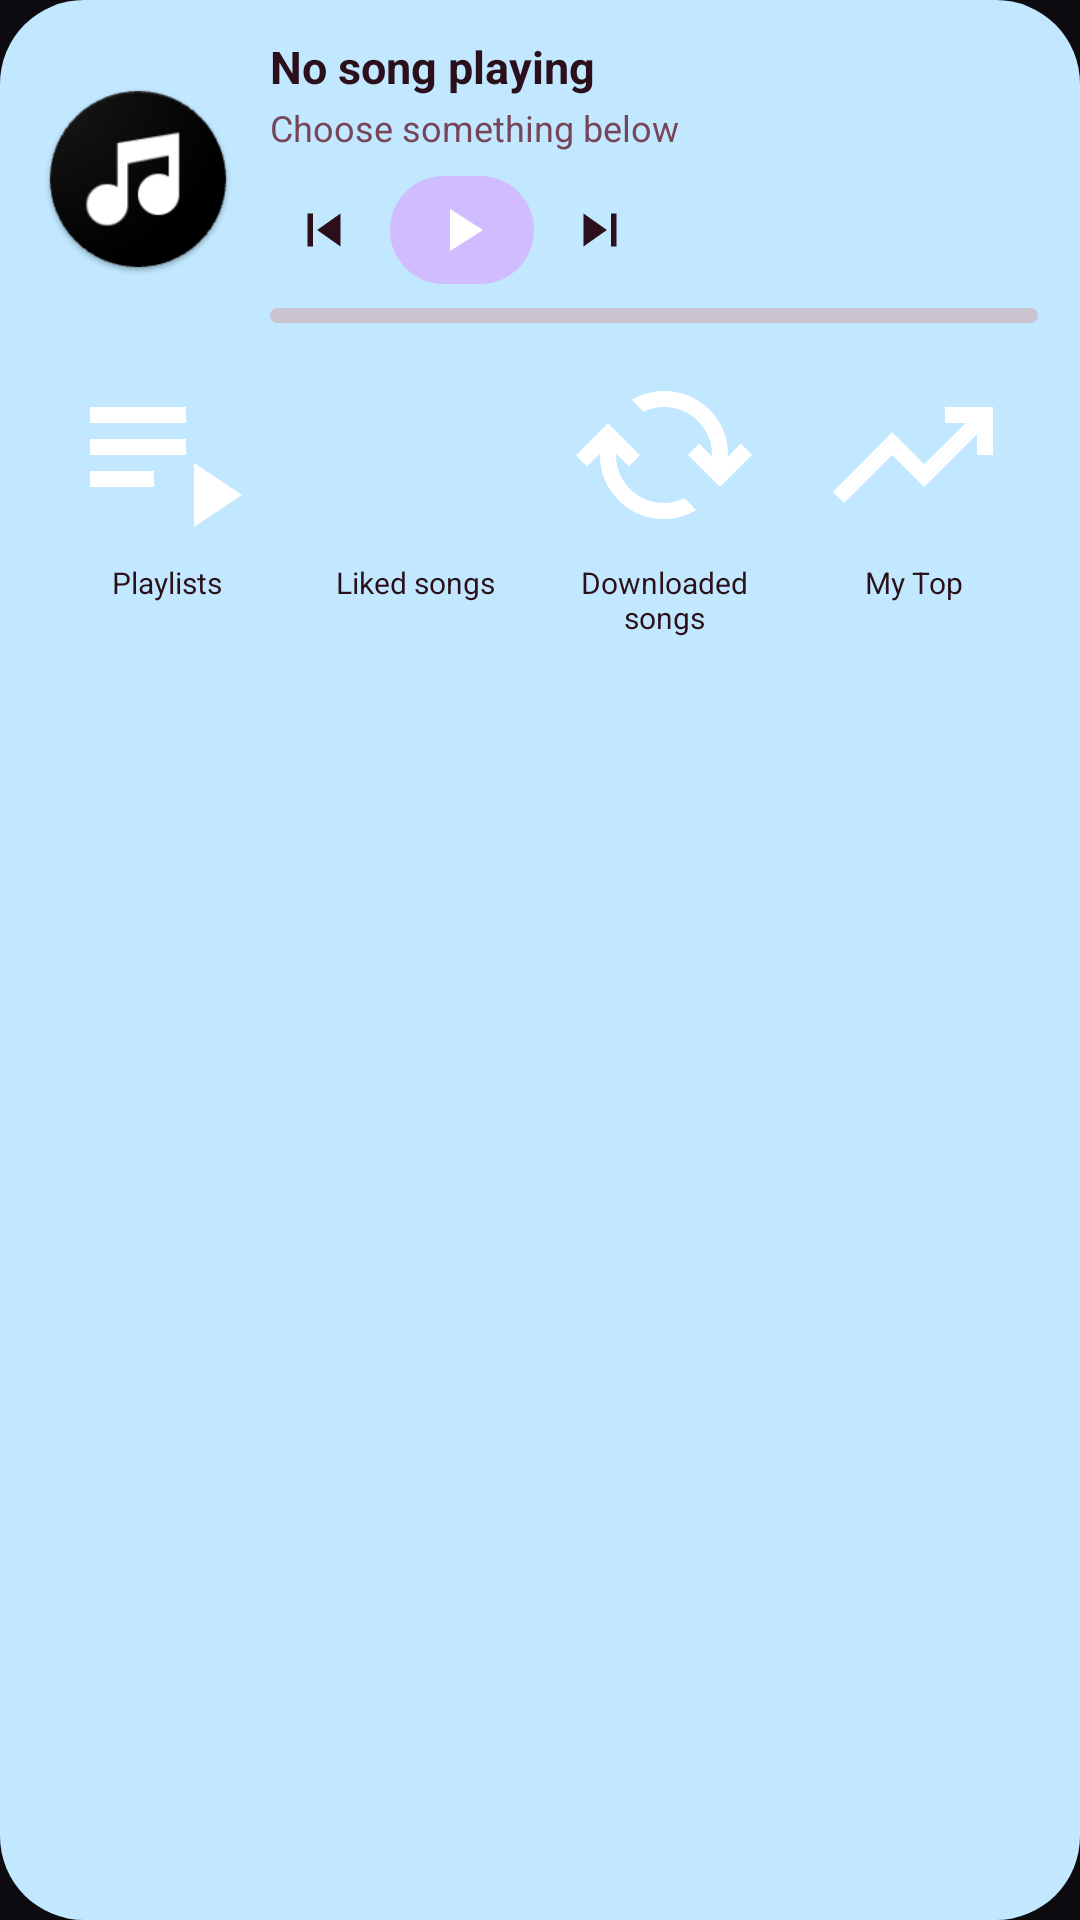

Screen size 1080 x 1920. Icon name, then its center in pixels as point (x, y):
cached: point (664, 455)
Next: point (600, 230)
Play/Pause: point (466, 230)
Previous: point (324, 230)
trending up: point (913, 455)
